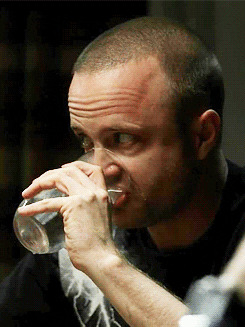drinking: (15, 7, 233, 275)
